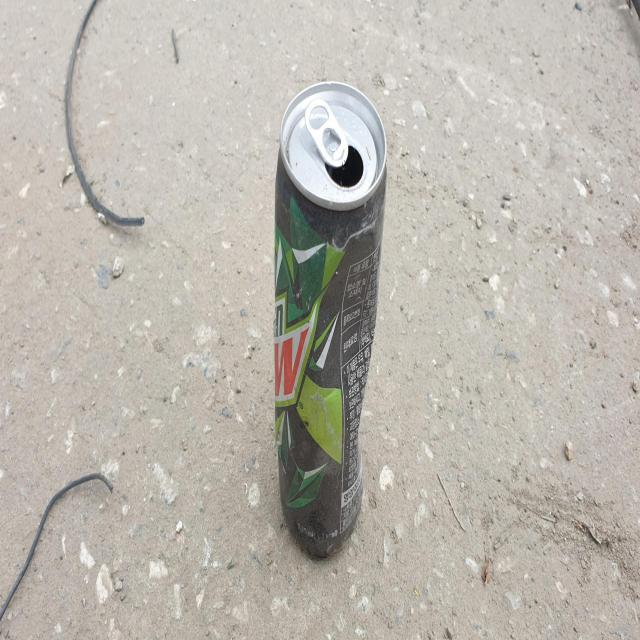can: (274, 79, 387, 557)
